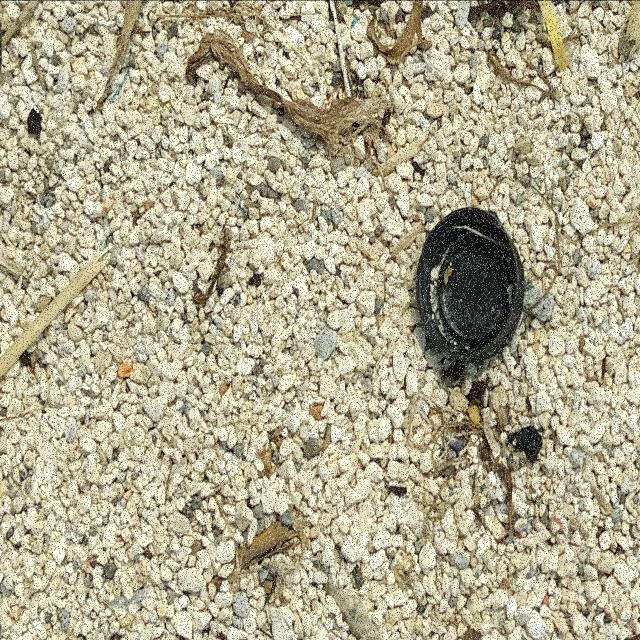plastic_waste: (416, 206, 527, 366)
